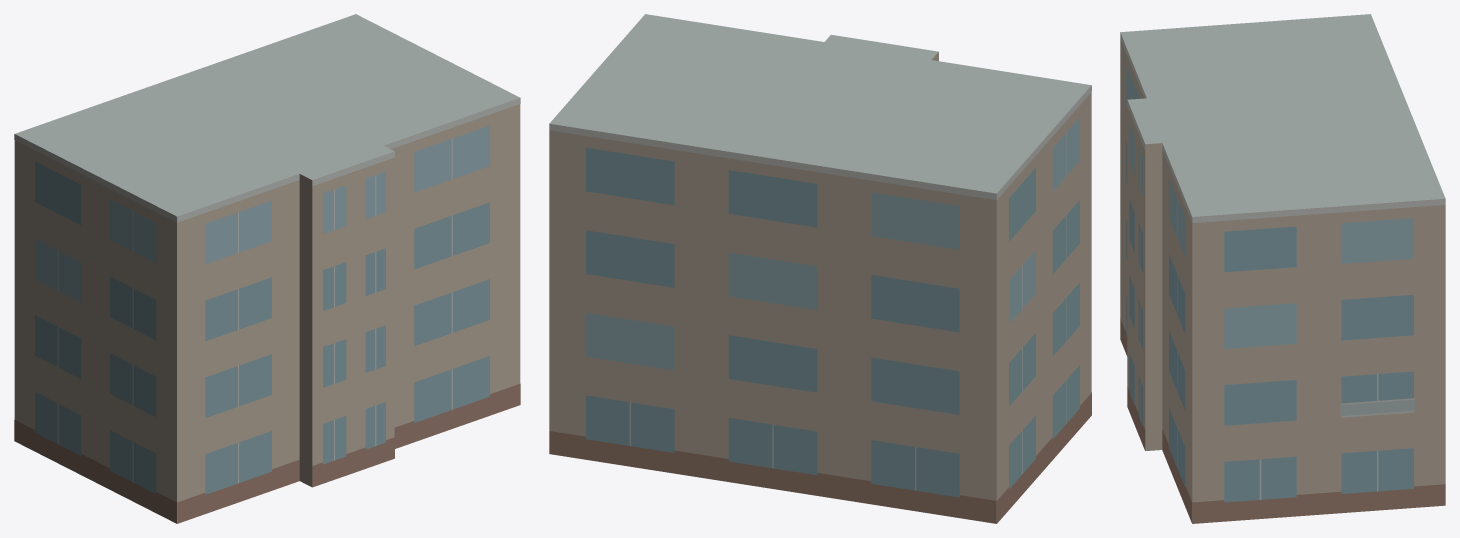
Rendered from residential-b35ec913-e7f3-4f4c-8ad9-8781ca97b59b.glb.
3 renders of one model, left to right at view 1: azimuth 30°, elevation 25°; view 2: azimuth 150°, elevation 25°; view 3: azimuth 270°, elevation 25°, orthographic. The views are drawn at different scales.
Visible parts, largest first — view 1: residential-b35ec913-e7f3-4f4c-8ad9-8781ca97b59b.tmp; view 2: residential-b35ec913-e7f3-4f4c-8ad9-8781ca97b59b.tmp; view 3: residential-b35ec913-e7f3-4f4c-8ad9-8781ca97b59b.tmp.
Part boxes in pixels (bbox=[...]): residential-b35ec913-e7f3-4f4c-8ad9-8781ca97b59b.tmp: bbox=[14, 14, 520, 523]; residential-b35ec913-e7f3-4f4c-8ad9-8781ca97b59b.tmp: bbox=[549, 14, 1091, 523]; residential-b35ec913-e7f3-4f4c-8ad9-8781ca97b59b.tmp: bbox=[1120, 14, 1445, 523].
Size of the model in its own units: 17.32 by 12.2 by 11.73.
